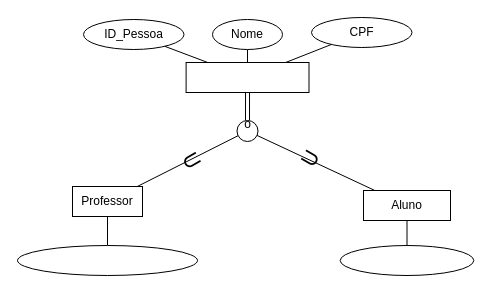
The diagram is 492 pixels wide and 293 high, and some of its shapes have lost their labels. Here are the shapes that lost their labels. From the top down, the centre of each, then its label:
At (x=247, y=77): "Pessoa_Academica".
At (x=107, y=260): "TItulação".
At (x=406, y=260): "Curso".
